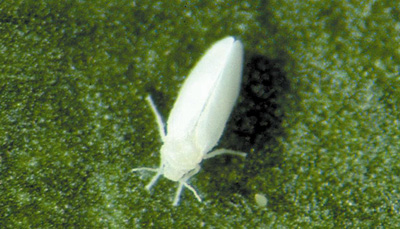Tobacco Whitefly: (134, 26, 259, 207)
